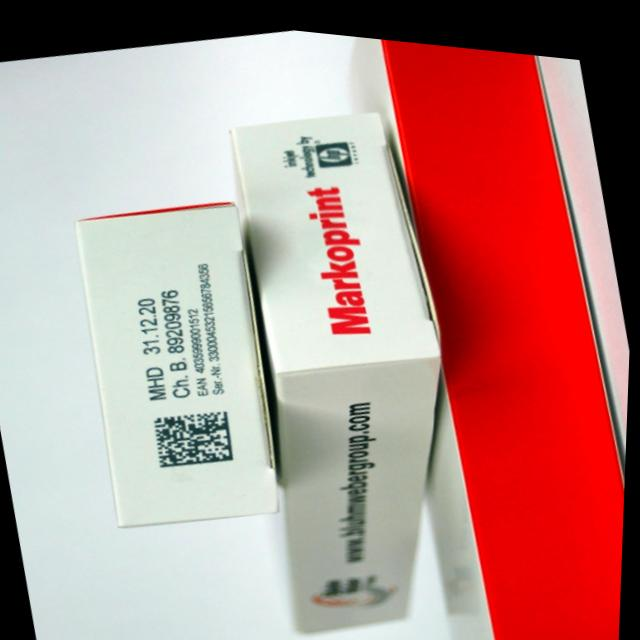datamatrix: (146, 393, 248, 476)
